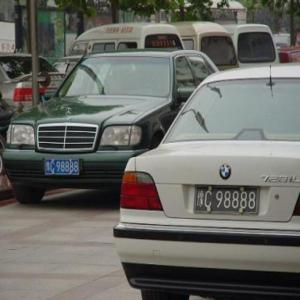Vehicle-registration-plate: (195, 186, 262, 215), (45, 158, 80, 174)
